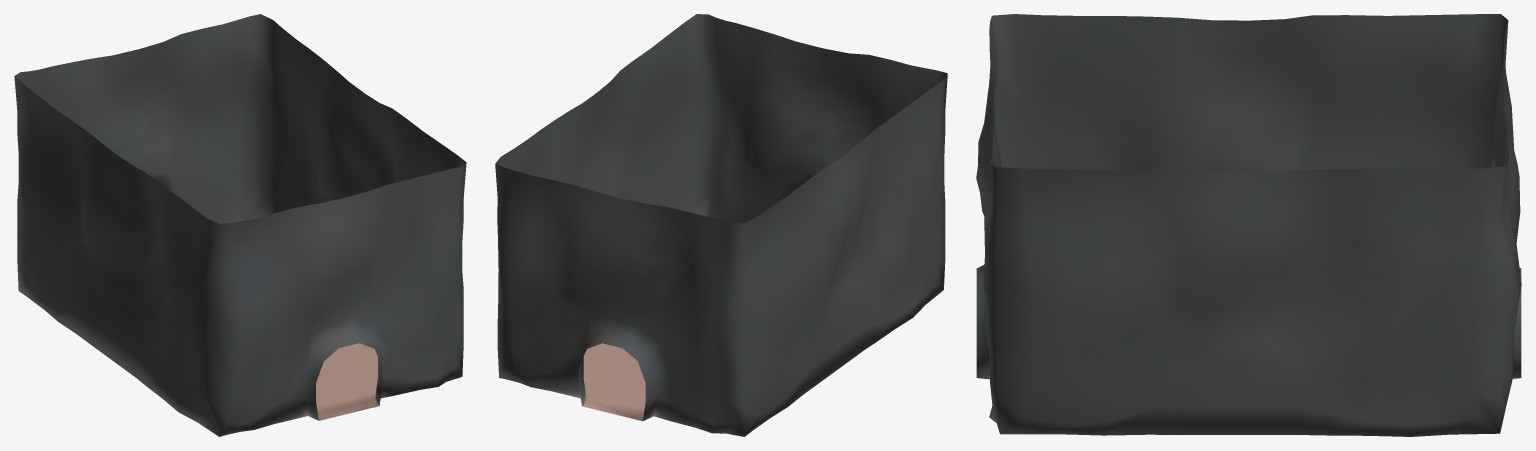
File: AbyssMeshHallway.fbx
3 views of the same model, side by side, from view 1: azimuth 30°, elevation 25°; view 2: azimuth 150°, elevation 25°; view 3: azimuth 270°, elevation 25° (orthographic). The views are drawn at different scales.
Visible parts, largest first — view 1: RoomMeshHallway; view 2: RoomMeshHallway; view 3: RoomMeshHallway.
Part boxes in pixels (x1,y1,x2,y2): RoomMeshHallway: (14,14,466,436); RoomMeshHallway: (495,14,947,436); RoomMeshHallway: (976,14,1521,436).
Bounding box in the file's own units: 1130 × 871 × 1602.
